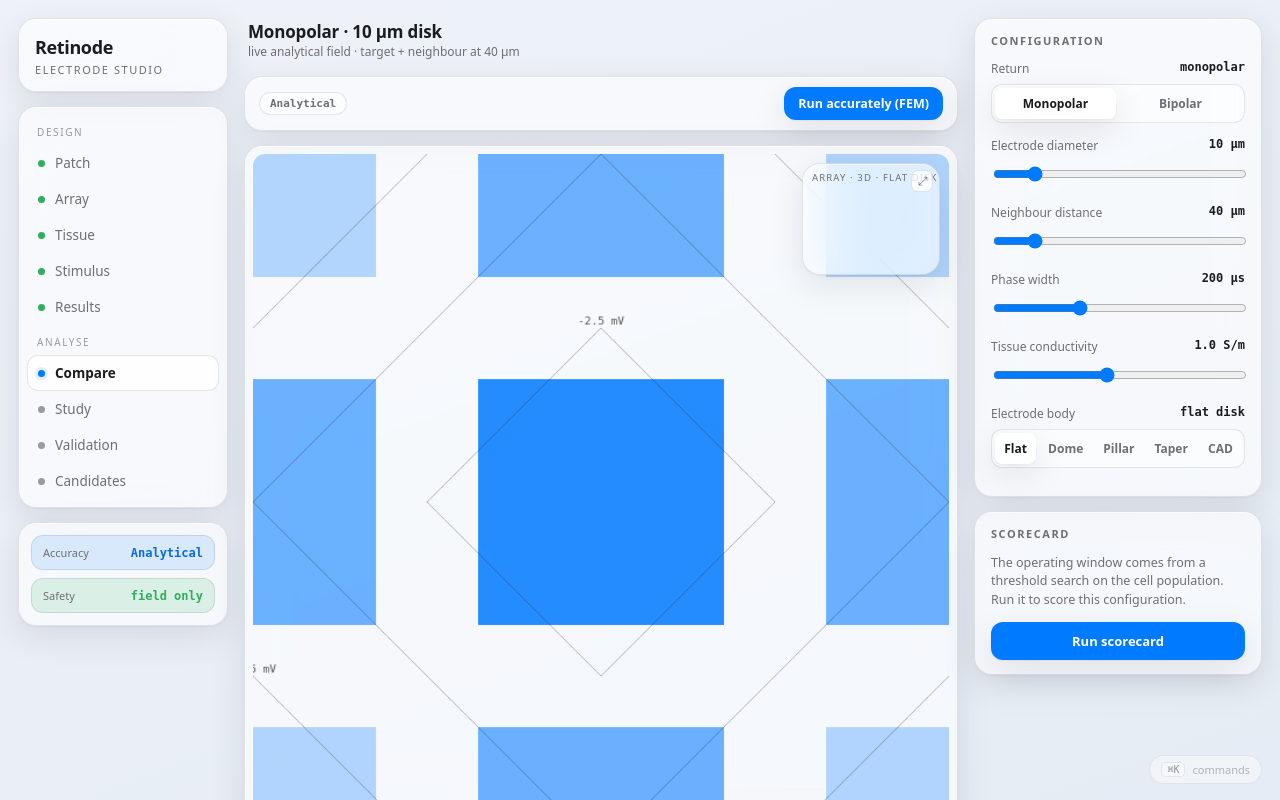
Test: App navigation › navigates from Compare to Study via the rail
Click the button "Study" at (123, 409), box [27,391,219,427]
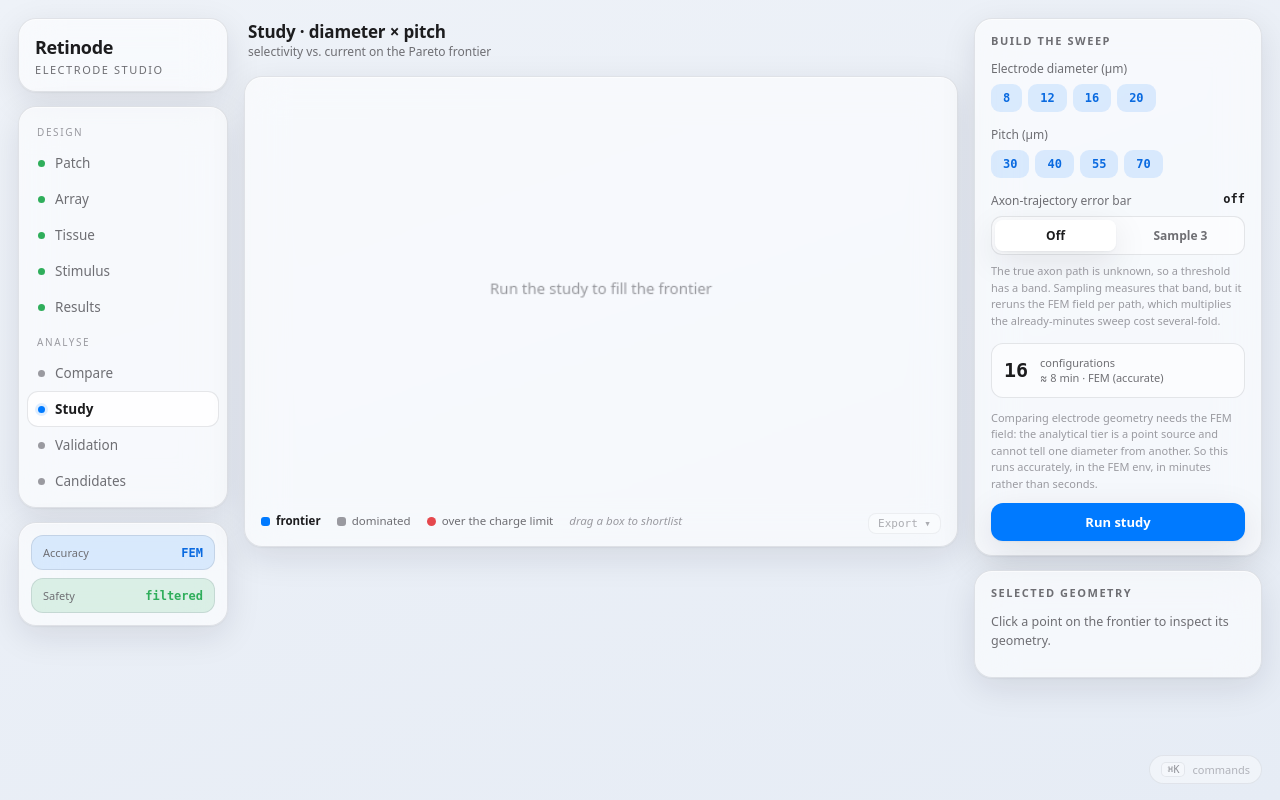
Expected: the heading "Study · diameter × pitch" is shown, [248,20,446,43]
